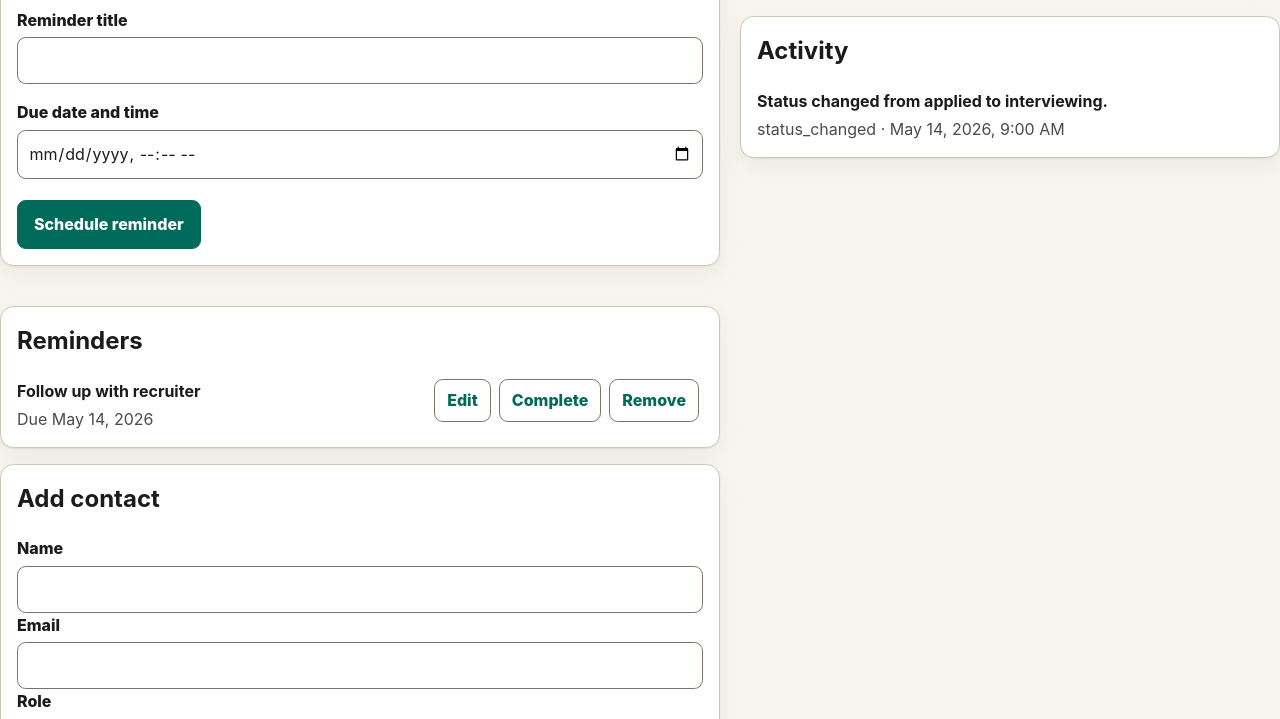
Test: ApplicationDetailPage › removes a reminder
This screenshot has width=1280, height=719.
(page scrolled)
Expected: the text "Follow up with recruiter" is shown, [17, 380, 200, 400]
Click the button "Remove" at (654, 400), box [609, 378, 699, 422]
(page scrolled)
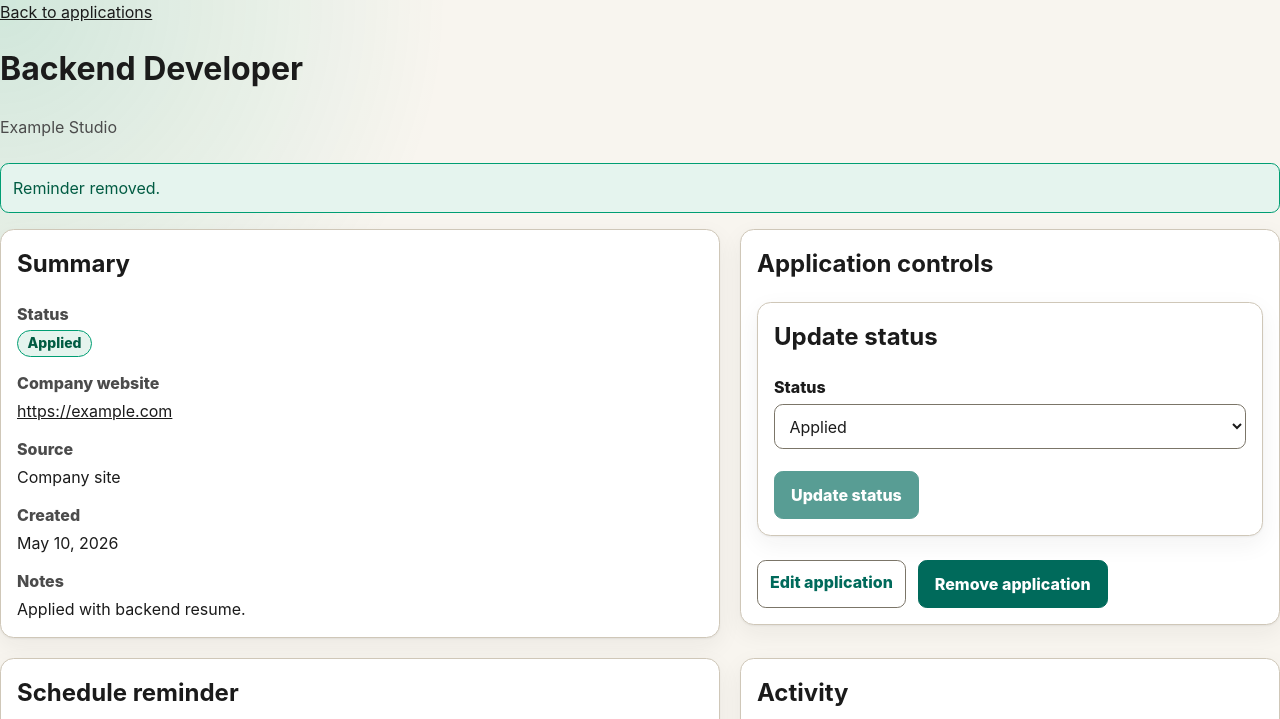
Expected: the message reads "Reminder removed.", [13, 178, 160, 198]
